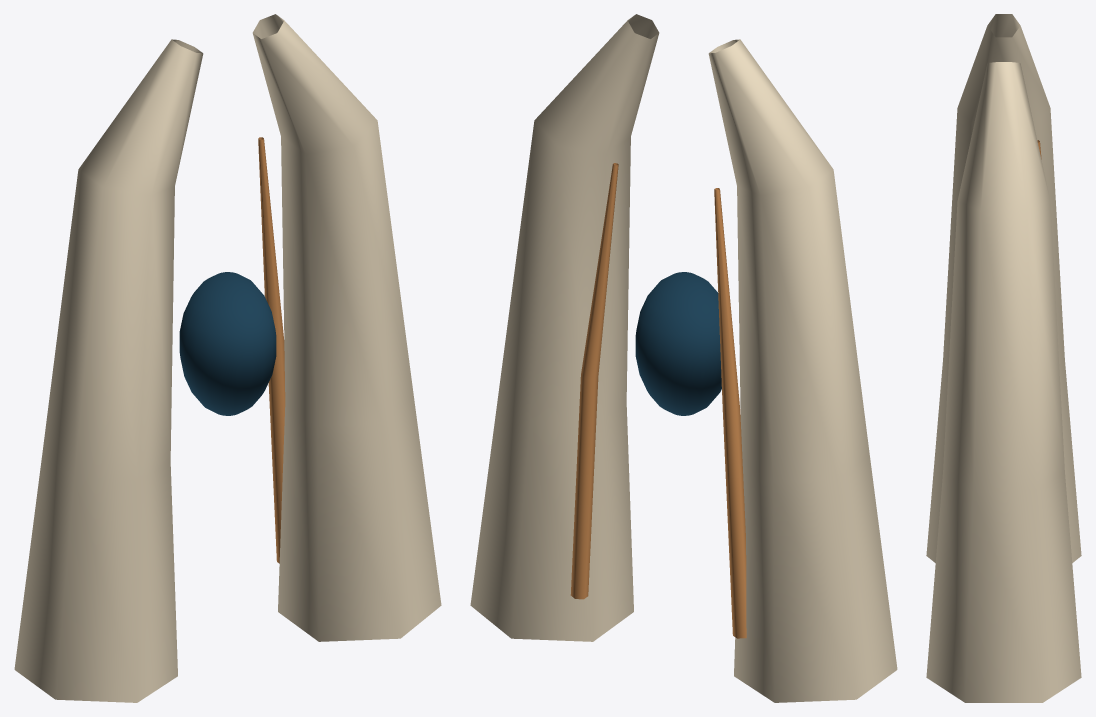
Rendered from relay.glb.
3 views of the same model, side by side, from view 1: azimuth 30°, elevation 25°; view 2: azimuth 150°, elevation 25°; view 3: azimuth 270°, elevation 25° (orthographic). The views are drawn at different scales.
Visible parts, largest first — view 1: Palette_ebdcc0fffalse2, Palette_193d53fffalse0, Palette_d99557fffalse2; view 2: Palette_ebdcc0fffalse2, Palette_d99557fffalse2, Palette_193d53fffalse0; view 3: Palette_ebdcc0fffalse2.
Boxes of the visible parts, x1,y1,x2,y2 form: Palette_ebdcc0fffalse2: [14, 14, 441, 702]; Palette_193d53fffalse0: [179, 272, 276, 415]; Palette_d99557fffalse2: [258, 137, 285, 563]; Palette_ebdcc0fffalse2: [470, 14, 897, 702]; Palette_d99557fffalse2: [570, 163, 746, 638]; Palette_193d53fffalse0: [635, 272, 721, 415]; Palette_ebdcc0fffalse2: [926, 14, 1081, 702].
Size of the model in its own units: 3.81 by 5.79 by 1.4.
